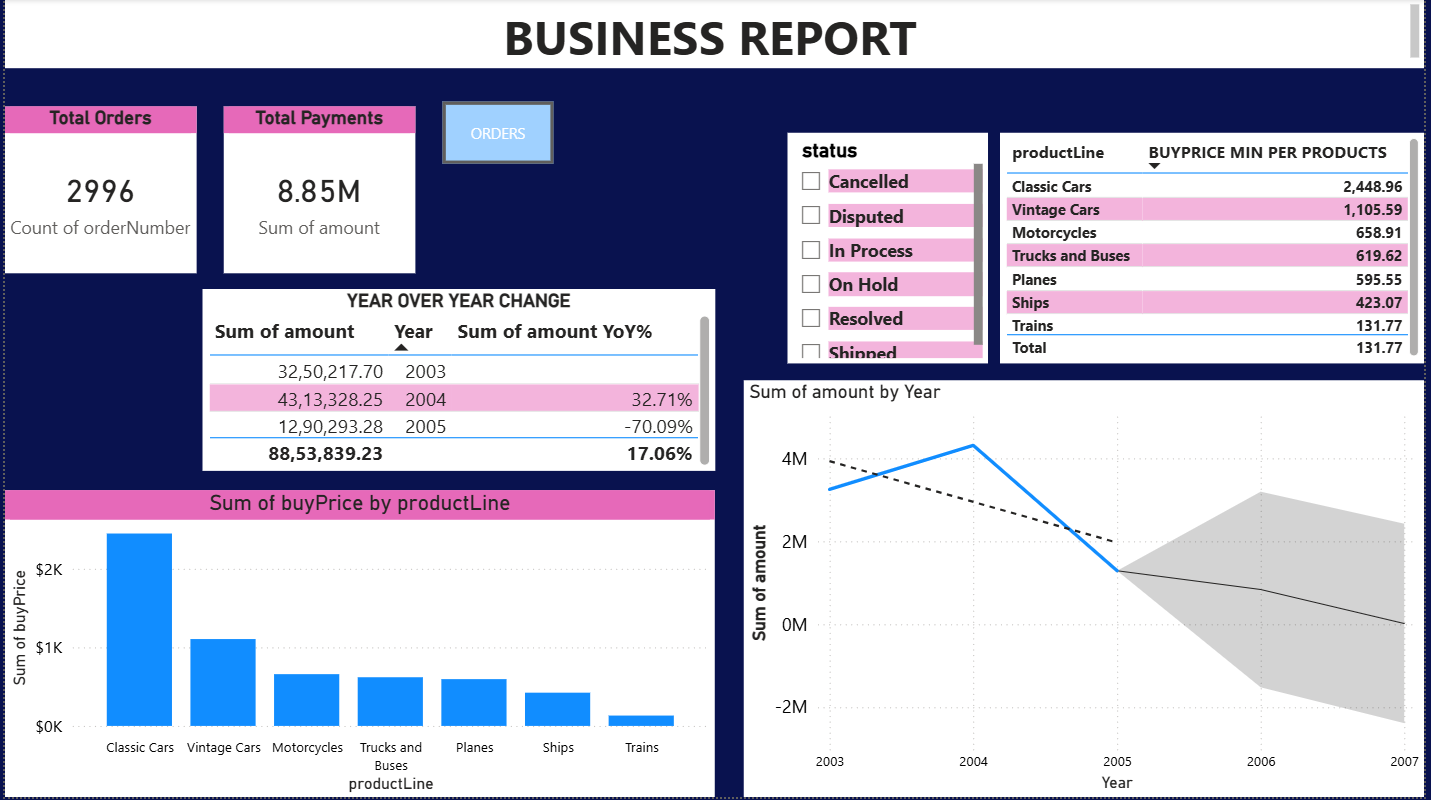

This screenshot's page, from the dashboard's own definition file:
{"tool":"powerbi","page":{"name":"Business dashboard ","canvas":[1280,720],"ordinal":1},"visuals":[{"type":"textbox","box":[0,0,1280.4,72.1],"z":0},{"type":"lineChart","fields":{"Category":["dummy payments.paymentDate.Variation.Date Hierarchy.Year","dummy payments.paymentDate.Variation.Date Hierarchy.Quarter","dummy payments.paymentDate.Variation.Date Hierarchy.Month","dummy payments.paymentDate.Variation.Date Hierarchy.Day"],"Y":["Sum(dummy payments.amount)"]},"box":[666.2,343.8,613.8,376.2],"z":1000},{"type":"card","title":"Total Orders","fields":{"Values":["CountNonNull(dummy orderdetails.orderNumber)"]},"box":[0,84.4,178.5,162.6],"z":2000},{"type":"tableEx","title":"YEAR OVER YEAR CHANGE","fields":{"Values":["Sum(dummy payments.amount)","dummy payments.paymentDate.Variation.Date Hierarchy.Year","dummy payments.Sum of amount YoY%"]},"box":[178.5,261.7,462.2,163.9],"z":3000},{"type":"clusteredColumnChart","fields":{"Category":["dummy products.productLine"],"Y":["Sum(dummy products.buyPrice)"]},"box":[0,442.5,640,277.5],"z":4000},{"type":"tableEx","fields":{"Values":["dummy products.productLine","dummy productlines.BUYPRICE MIN PER PRODUCTS"]},"box":[898.3,86.8,382.1,244.6],"z":5000},{"type":"slicer","fields":{"Values":["dummy orders.status"]},"box":[705.6,121.1,181,207.9],"z":6000},{"type":"actionButton","title":"ORDERS","box":[36.7,331.4,100.3,56.3],"z":7000},{"type":"card","title":"Total Payments","fields":{"Values":["Sum(dummy payments.amount)"]},"box":[196.9,84.4,172.4,162.6],"z":8000},{"type":"textbox","box":[434.1,132.1,247,114.9],"z":9000}]}

Visuals, with their boxes in screenshot pixels (x1, y1, x2, y2), scaled from the page's 1280x720 canvas onto the 1431x800 screenshot:
textbox: crop(0, 0, 1430, 80)
lineChart - dummy payments.paymentDate.Variation.Date Hierarchy.Year x dummy payments.paymentDate.Variation.Date Hierarchy.Quarter: crop(745, 382, 1430, 799)
"Total Orders" card: crop(0, 94, 200, 274)
"YEAR OVER YEAR CHANGE" tableEx: crop(200, 291, 716, 473)
clusteredColumnChart - dummy products.productLine x Sum(dummy products.buyPrice): crop(0, 492, 716, 799)
tableEx - dummy products.productLine x dummy productlines.BUYPRICE MIN PER PRODUCTS: crop(1004, 96, 1430, 368)
slicer - dummy orders.status: crop(789, 135, 991, 366)
"ORDERS" actionButton: crop(41, 368, 153, 431)
"Total Payments" card: crop(220, 94, 413, 274)
textbox: crop(485, 147, 761, 274)
